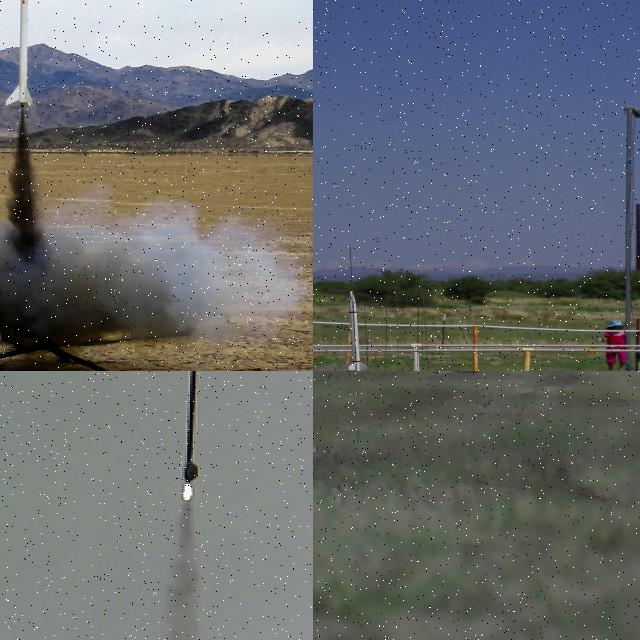Rocket: (4, 0, 34, 108), (181, 371, 199, 483), (344, 290, 368, 371)
